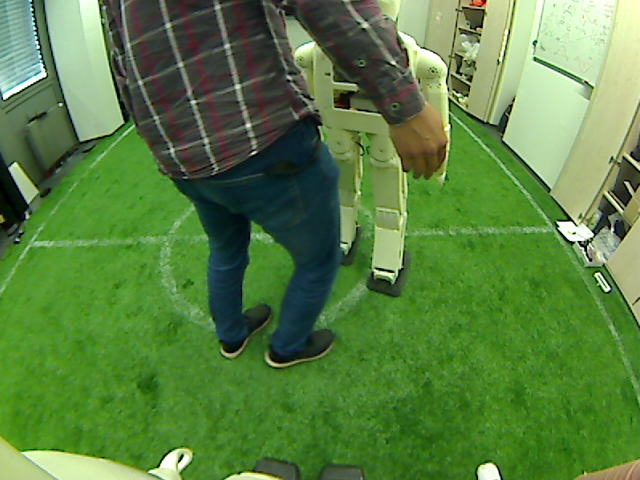robot: (350, 206, 384, 278)
